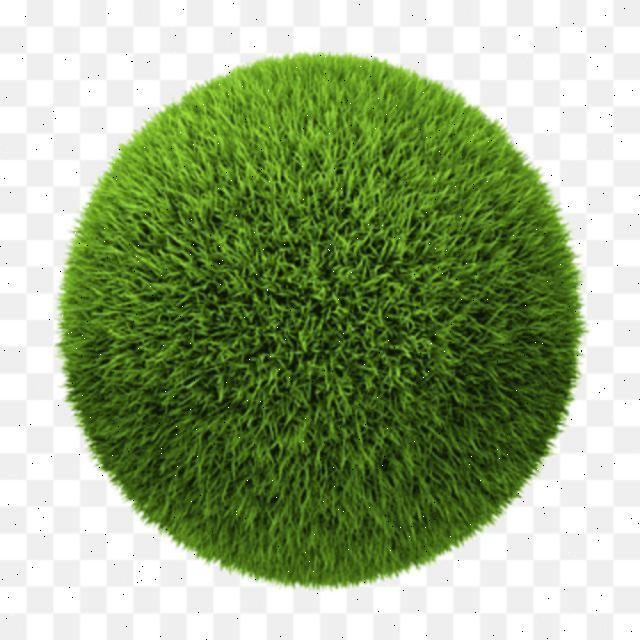Circle: (63, 52, 581, 590)
